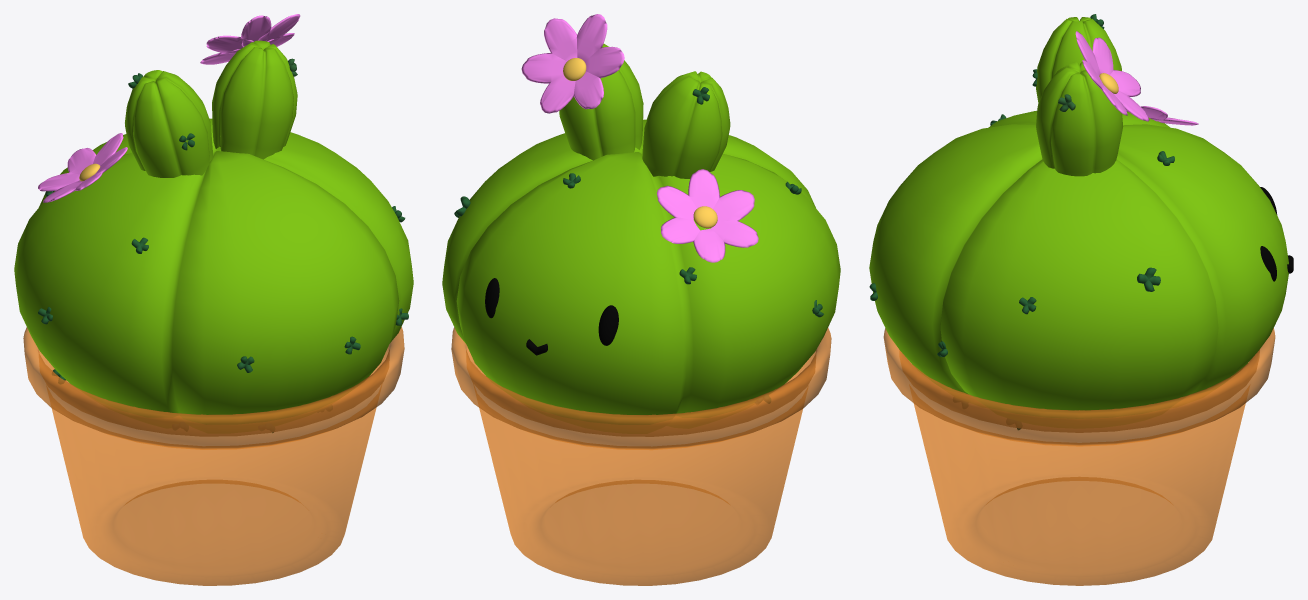
The model's file is bongbong.gltf.
The picture shows the model from 3 angles, left to right: view 1: azimuth 30°, elevation 25°; view 2: azimuth 150°, elevation 25°; view 3: azimuth 270°, elevation 25°; orthographic projection. The views are drawn at different scales.
Parts seen in each view (by area): view 1: หูขวา, กระถาง, ``เกสร, ``เกสร.001; view 2: หูขวา, กระถาง, ``เกสร.001, ``เกสร, ตาขวา; view 3: หูขวา, กระถาง, ``เกสร.001.
Boxes of the visible parts, x1,y1,x2,y2 form: หูขวา: [14, 40, 413, 424]; กระถาง: [23, 327, 404, 585]; ``เกสร: [38, 133, 127, 202]; ``เกสร.001: [200, 14, 300, 64]; หูขวา: [442, 44, 840, 424]; กระถาง: [451, 327, 831, 585]; ``เกสร.001: [521, 14, 624, 113]; ``เกสร: [657, 169, 758, 262]; ตาขวา: [598, 305, 618, 345]; หูขวา: [869, 17, 1288, 418]; กระถาง: [883, 328, 1275, 585]; ``เกสร.001: [1075, 31, 1149, 121].
Bounding box in the file's own units: 3.02 × 4.17 × 3.09.
